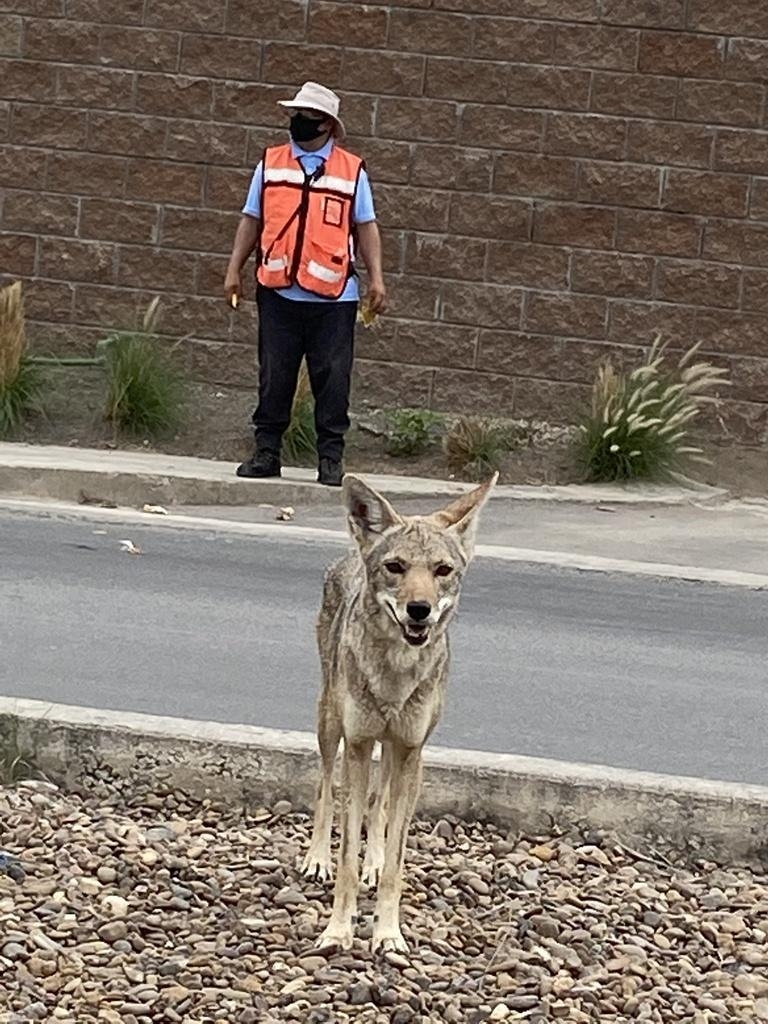Coyote: (297, 465, 502, 963)
